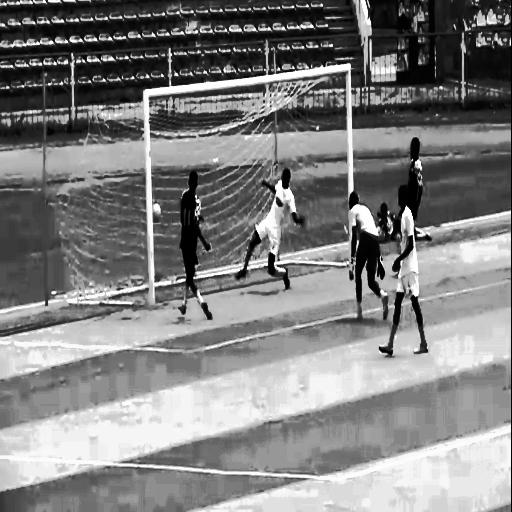ball: (151, 199, 166, 228)
keeper1: (345, 183, 389, 335)
team1: (378, 182, 439, 390), (228, 161, 308, 302)
team2: (170, 164, 222, 343), (405, 126, 427, 218)
